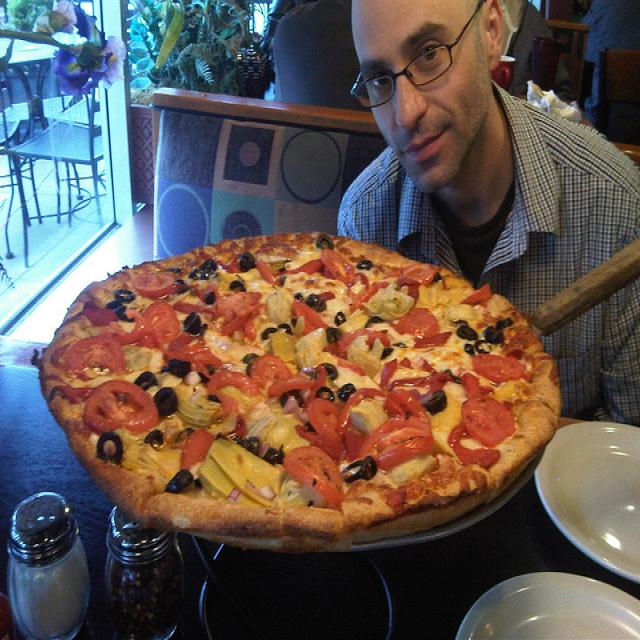chair: (148, 80, 387, 259), (5, 55, 117, 271), (1, 38, 22, 155)
dining table: (1, 365, 640, 632), (0, 35, 61, 139)
